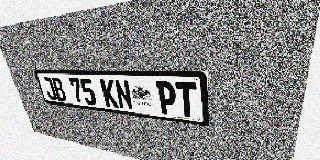5: (79, 78, 97, 106)
7: (68, 78, 86, 104)
B: (51, 77, 67, 102)
J: (41, 77, 58, 101)
K: (100, 79, 119, 108)
N: (114, 80, 134, 110)
P: (156, 81, 177, 116)
T: (175, 82, 198, 118)
